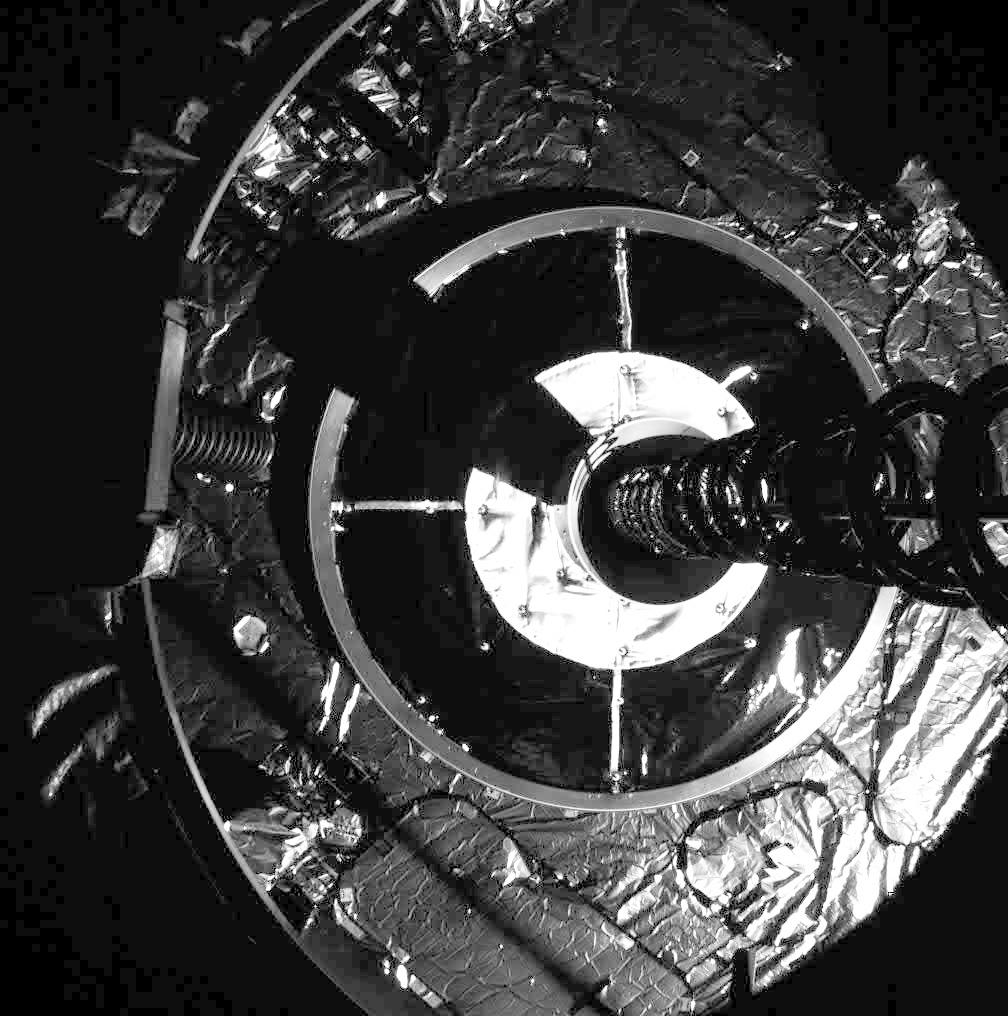antenna: (603, 357, 1008, 629), (140, 291, 282, 523)
body: (25, 0, 1008, 1016)
